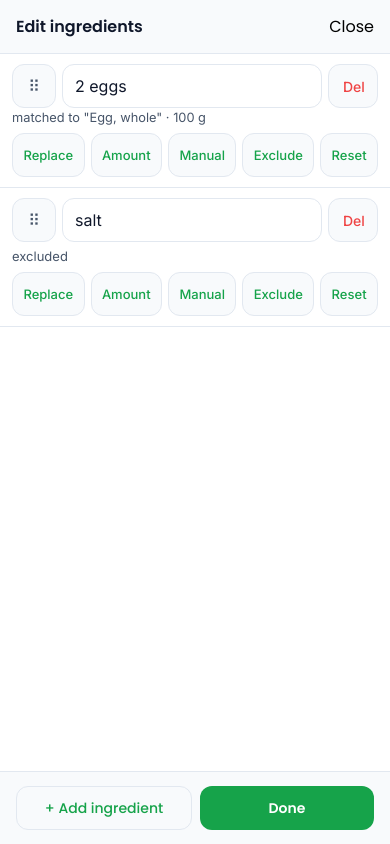
Test case: IngredientsEditor nutritionItems wiring › Search the web queries FatSecret and lists results
Step 1. Click the button "Replace" below "matched to \"" → (48, 155), box x1=12 y1=133 x2=84 y2=177
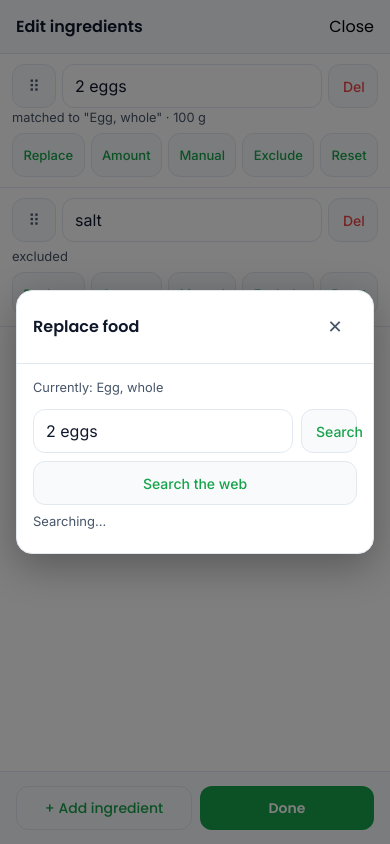
Step 2. Click the button "Search the web" → (195, 483), box x1=33 y1=461 x2=357 y2=505
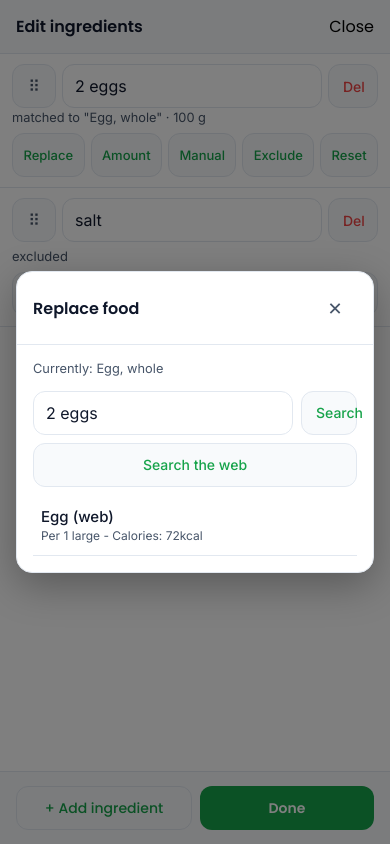
Result: the text "Egg (web)" is shown at x1=41 y1=507 x2=114 y2=526
